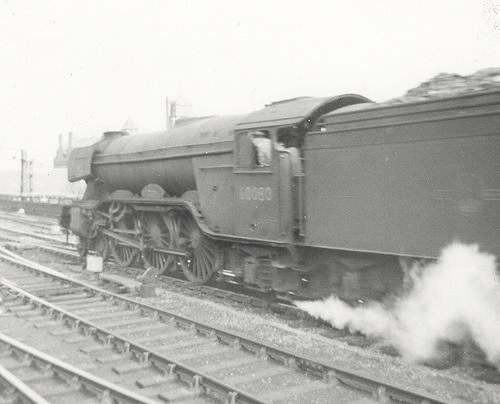train: (61, 70, 500, 348)
